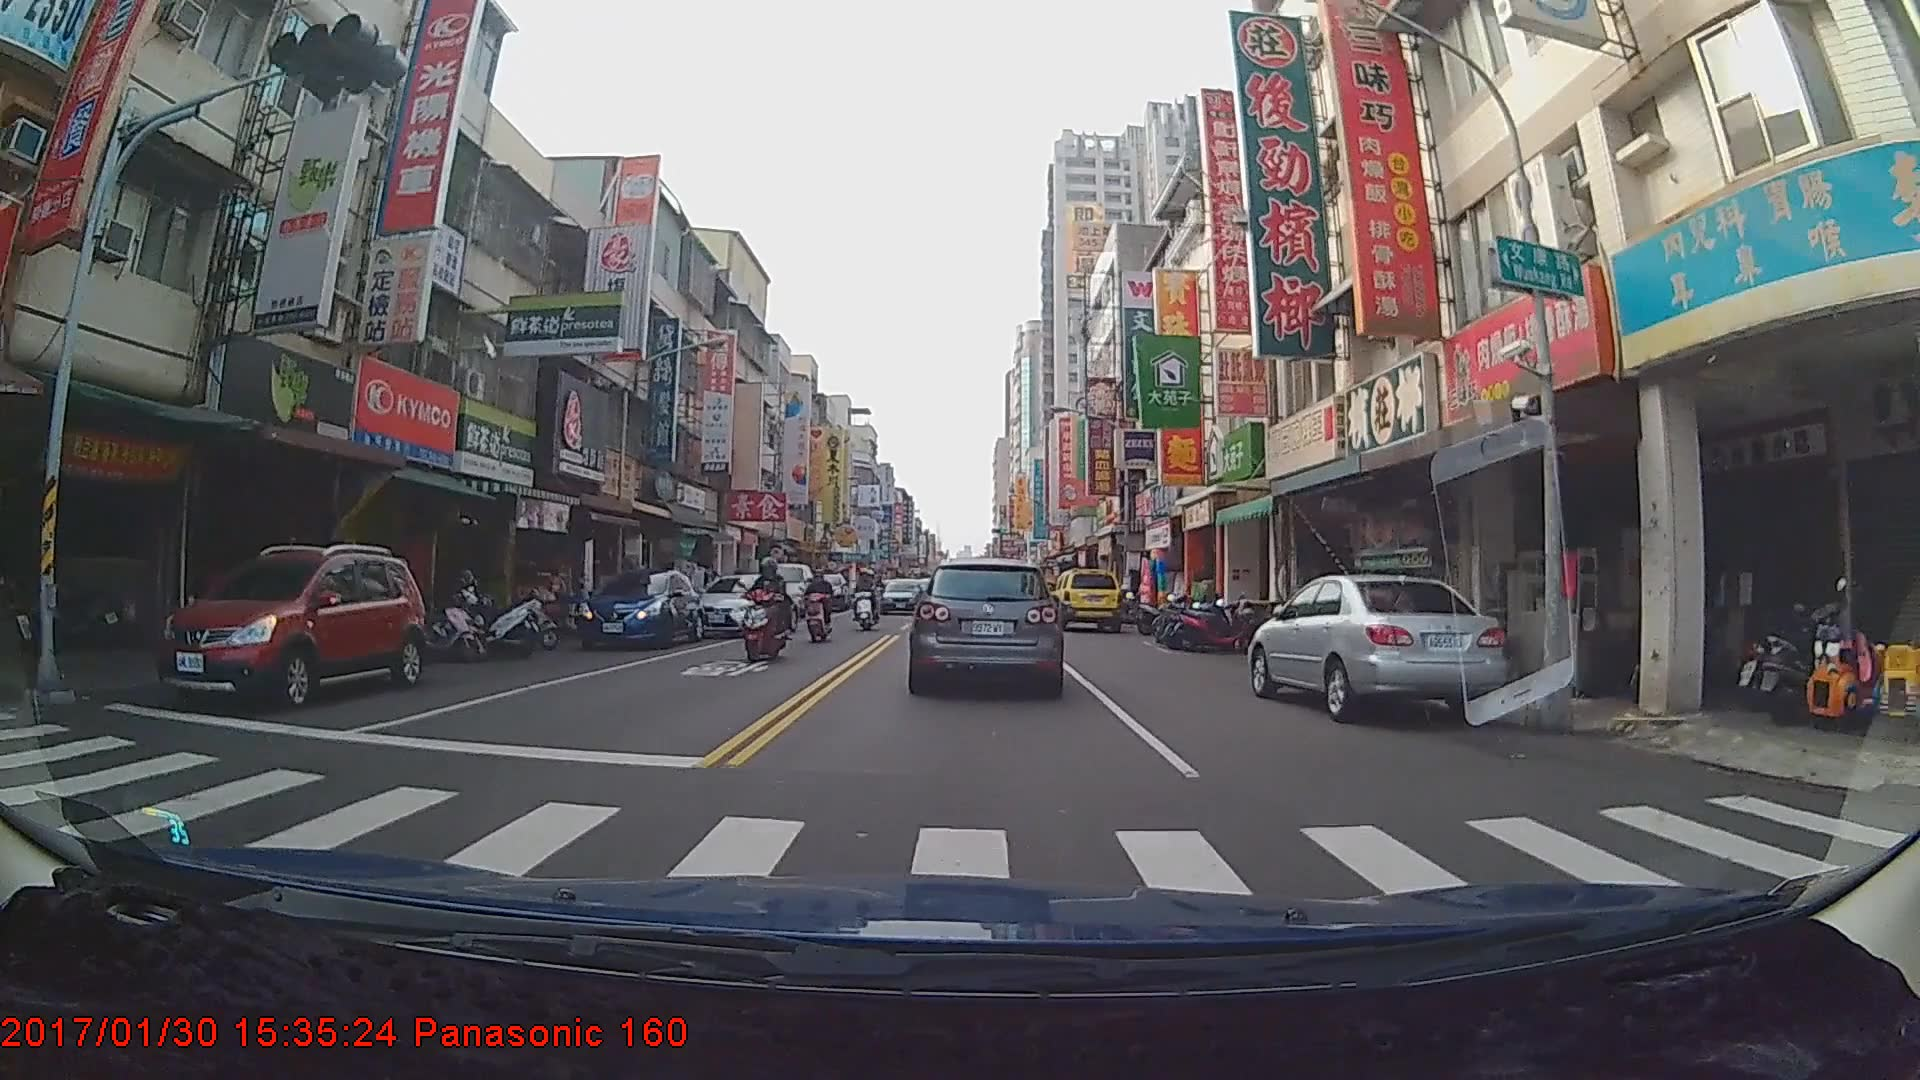rider: (740, 556, 795, 672), (801, 568, 836, 644), (852, 576, 881, 641)
vehicle: (153, 545, 428, 707), (1245, 572, 1508, 723), (909, 556, 1062, 694), (571, 571, 704, 651), (693, 574, 799, 636), (1048, 566, 1123, 631), (756, 563, 812, 618), (877, 578, 926, 615)
